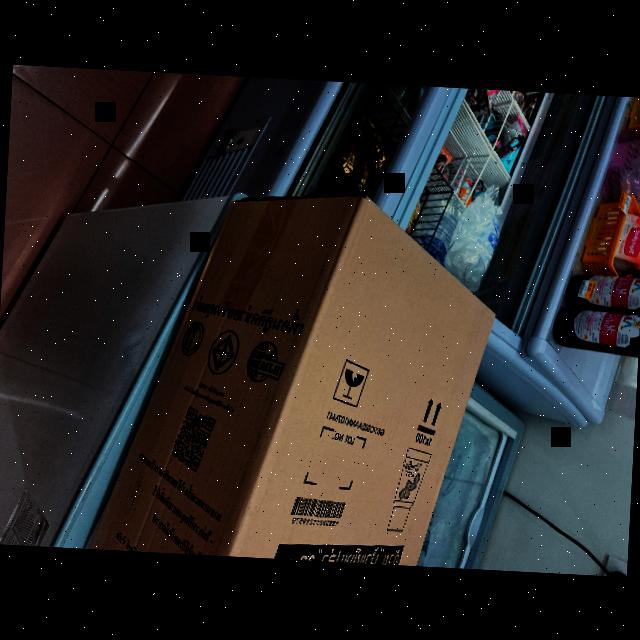cardboard_box: (73, 182, 496, 565)
